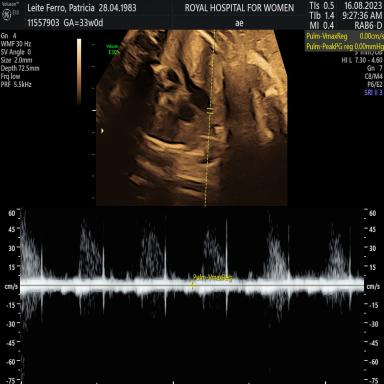Ultrasound-Waves: (27, 210, 358, 383)
